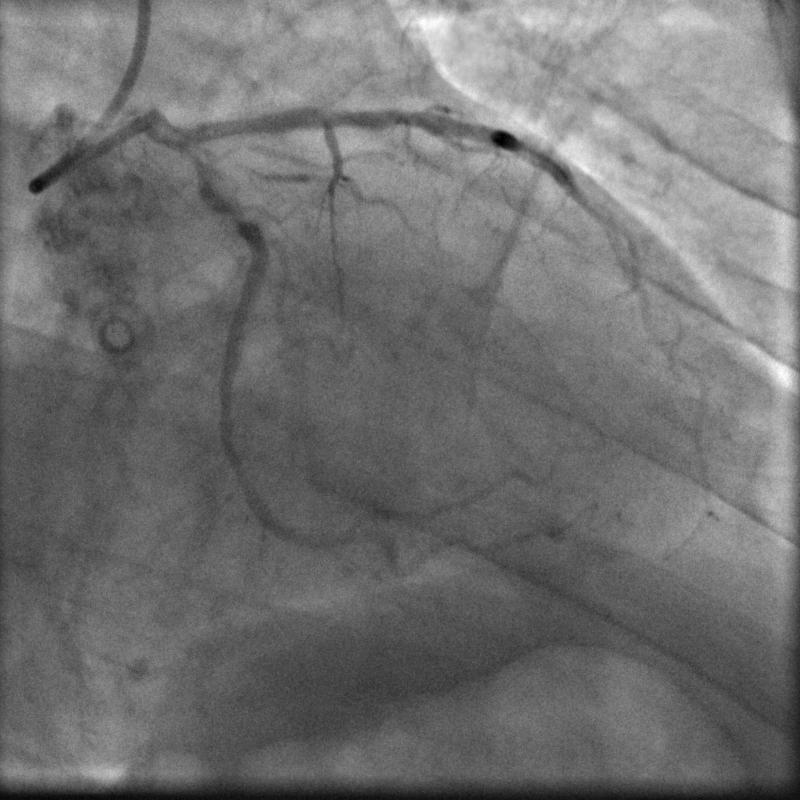Stenosis: (224, 209, 247, 224)
